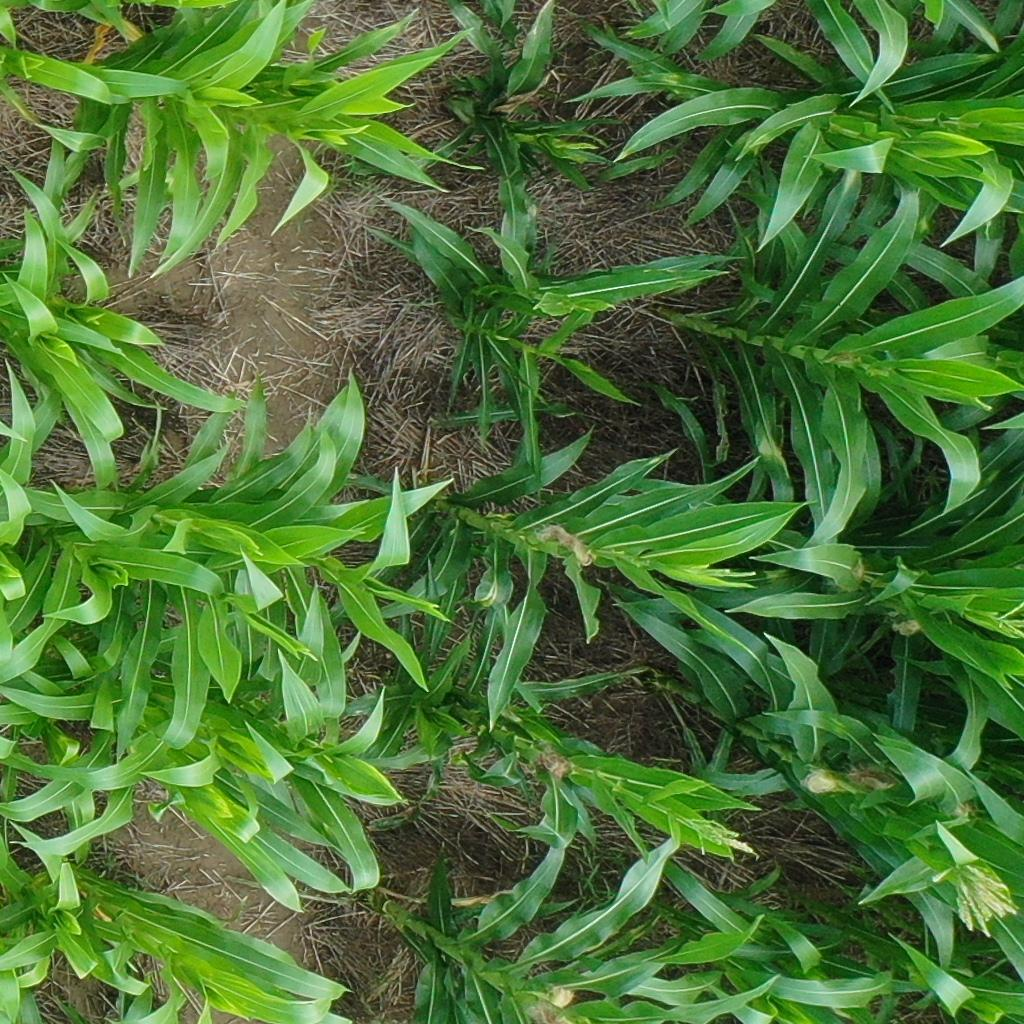Tassel: (927, 854, 1016, 939), (685, 814, 762, 864), (691, 559, 756, 592), (992, 592, 1024, 640)
